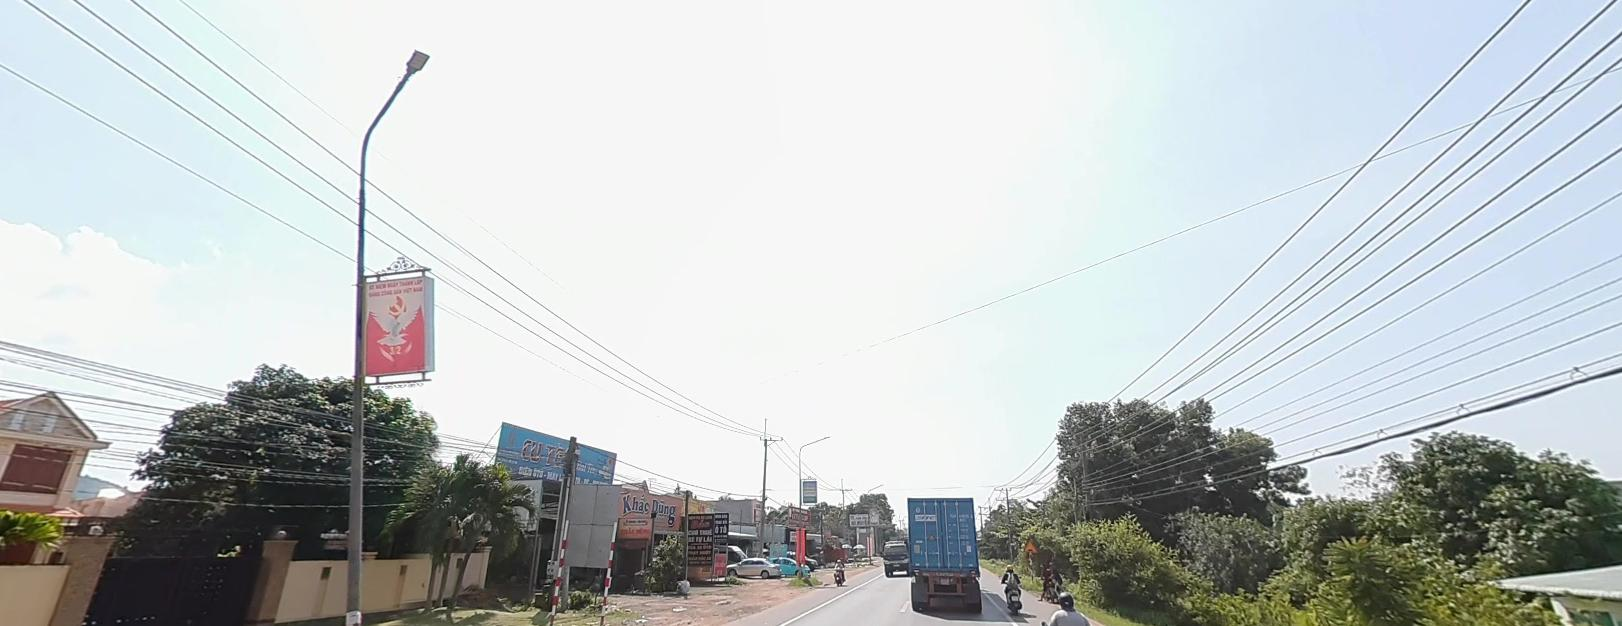Nguy hiem: (1023, 538, 1038, 552)
